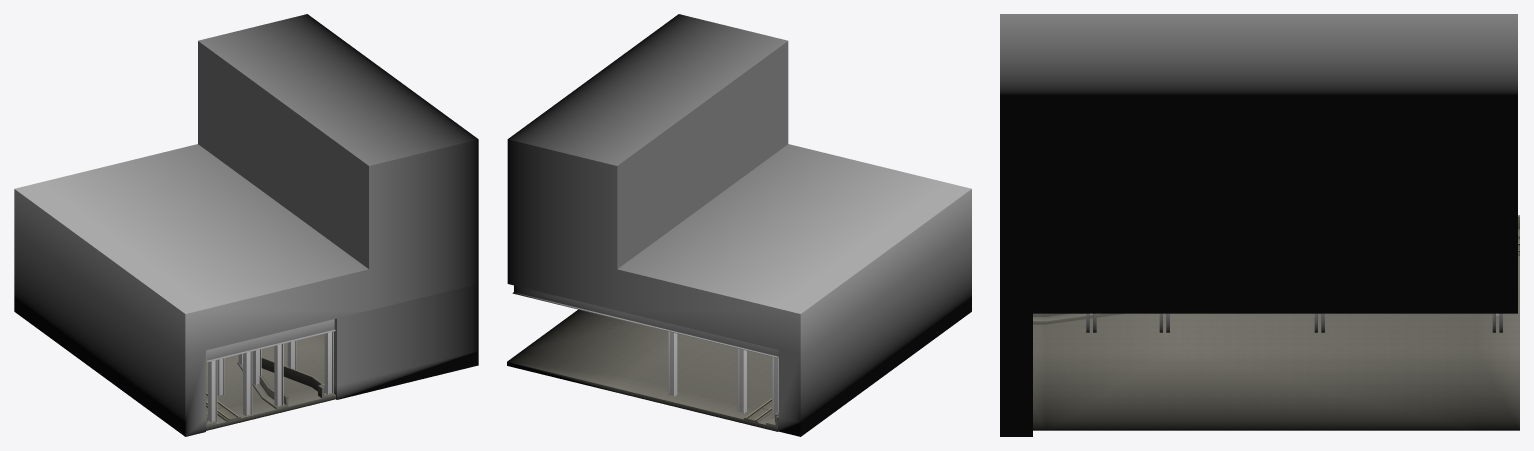
File: 4_TO_2RAIL_KONKURI2.glb
3 views of the same model, side by side, from view 1: azimuth 30°, elevation 25°; view 2: azimuth 150°, elevation 25°; view 3: azimuth 270°, elevation 25° (orthographic). The views are drawn at different scales.
Parts seen in each view (by area): view 1: obj6; view 2: obj6; view 3: obj6.
Boxes of the visible parts, x1,y1,x2,y2 form: obj6: (14,14,478,436); obj6: (507,14,971,436); obj6: (1000,14,1519,436).
Bounding box in the file's own units: 149 × 109 × 151.
Materials: 3 (3 with a texture image).
